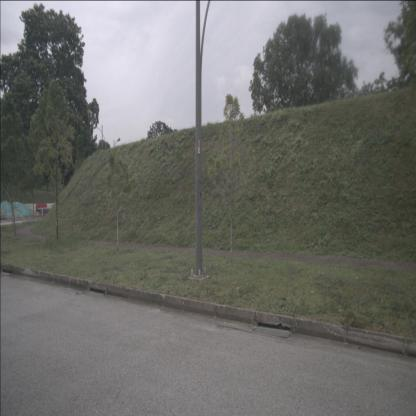movable_object-trafficcone: (41, 208, 44, 216), (1, 211, 4, 218), (34, 209, 36, 215)
